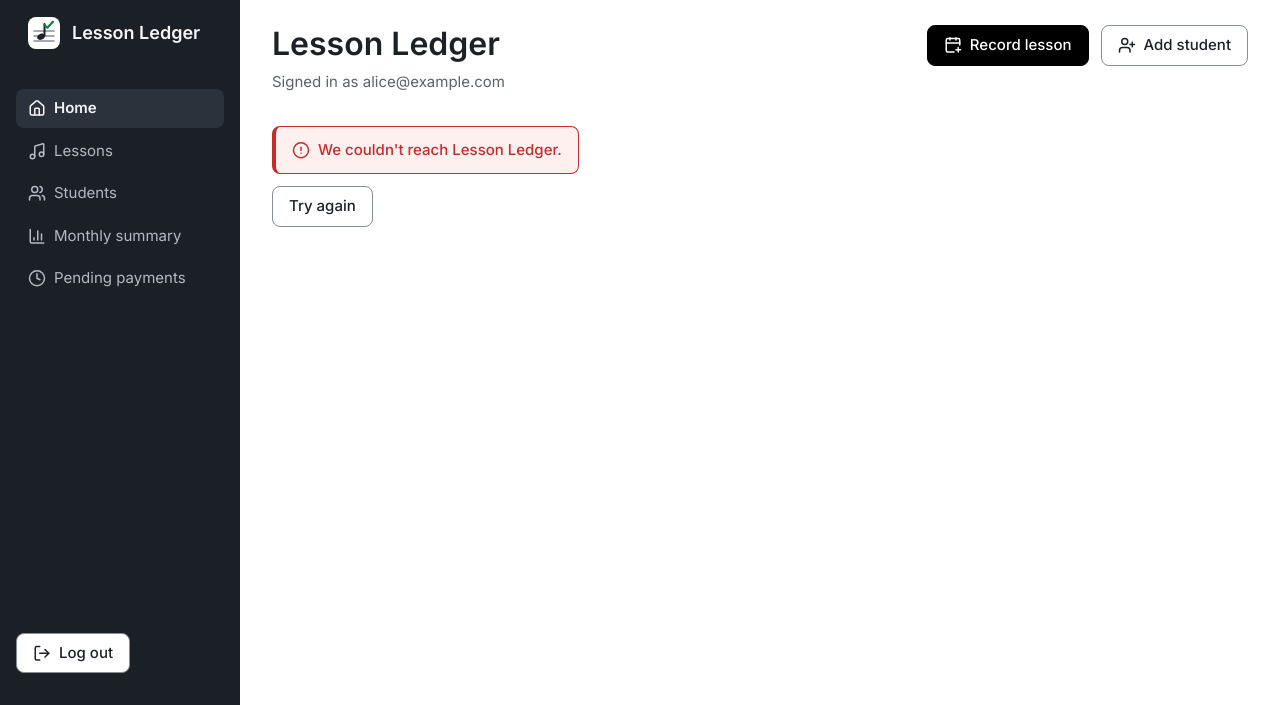
Test case: F07 AC-5 empty, partial and error states › AC-5d /api/monthly-summaries/2026-11 failing with a 5xx shows only the load error; Try again loads the default state
Expected: the message reads "We couldn't reach Lesson Ledger.", [318, 140, 562, 159]
Expected: the heading "Lesson Ledger" is shown, [272, 25, 505, 63]
Click the button "Try again" at (322, 207), box [272, 186, 373, 227]
(page scrolled)
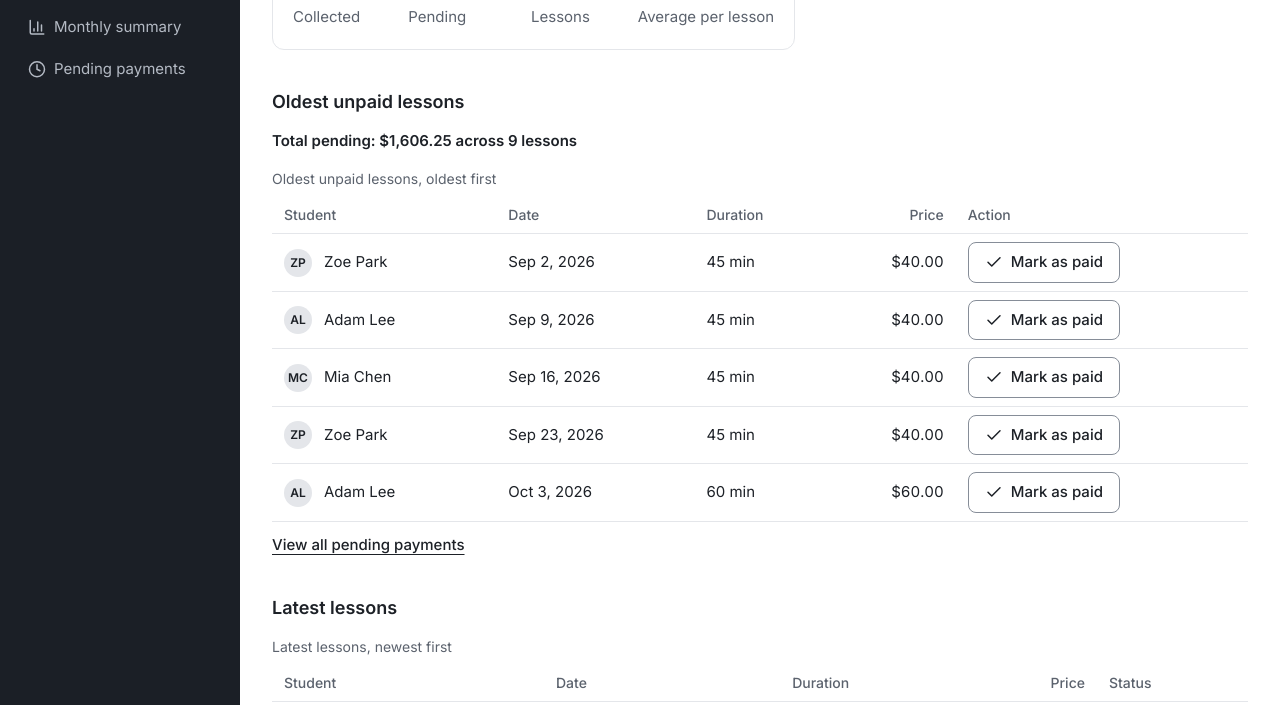
Now the table "Oldest unpaid lessons, oldest first" is shown, box [272, 169, 1248, 522]
Now the message "We couldn't reach Lesson Ledger." is gone
